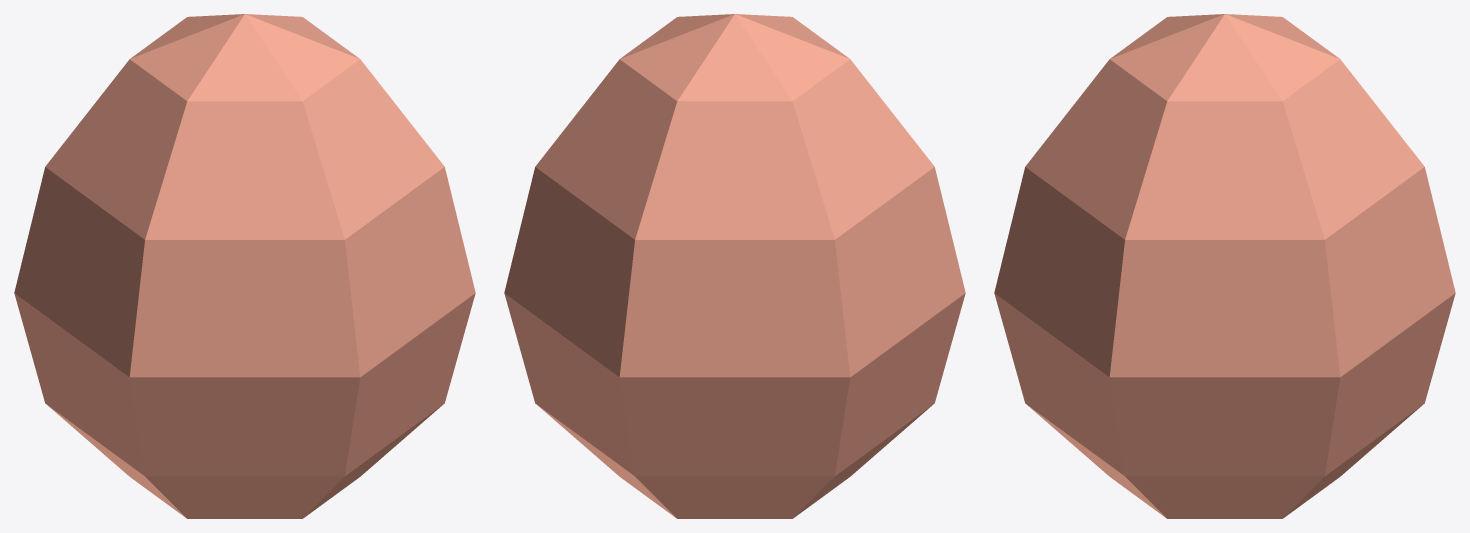
File: Egg.fbx
The picture shows the model from 3 angles, left to right: view 1: azimuth 30°, elevation 25°; view 2: azimuth 150°, elevation 25°; view 3: azimuth 270°, elevation 25°; orthographic projection.
Parts seen in each view (by area): view 1: Egg; view 2: Egg; view 3: Egg.
Part boxes in pixels (x1=…): Egg: x1=14, y1=14, x2=475, y2=518; Egg: x1=504, y1=14, x2=965, y2=518; Egg: x1=994, y1=14, x2=1455, y2=518.
Bounding box in the file's own units: 16.47 × 22.21 × 19.02.
